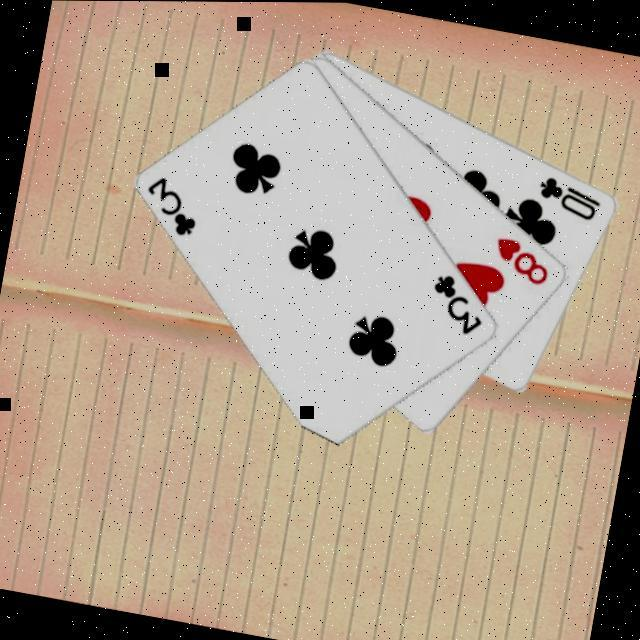10C: (533, 171, 609, 225)
3C: (425, 270, 495, 341), (138, 172, 208, 243)
8H: (489, 233, 559, 291)
